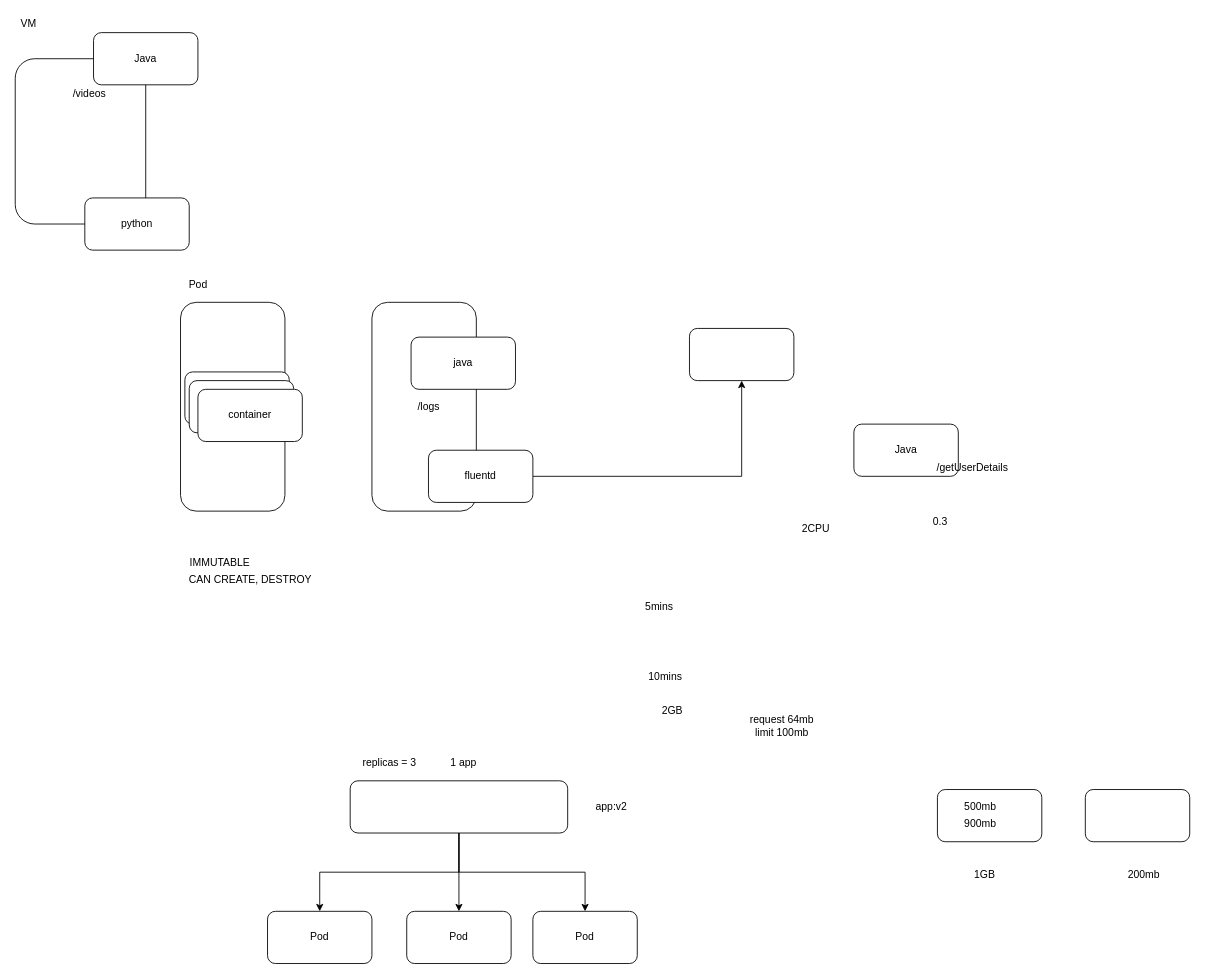
This 1205x979 diagram has some shape labels left out. The centre of each missing label's shape, as x and y in pixels:
"Deployment" belongs at (x=458, y=806).
"elasticsearchh" belongs at (x=741, y=354).
